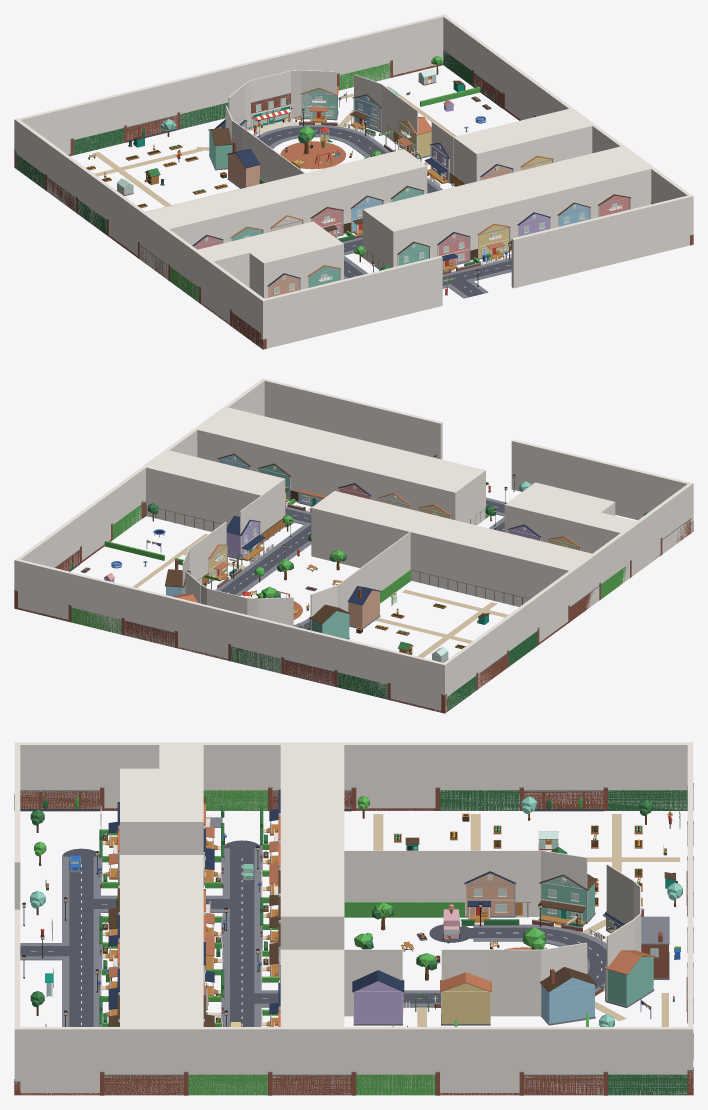
The model's file is CatCafe_Neighbourhood_SetV32.glb.
The picture shows the model from 3 angles, top to bottom: view 1: azimuth 30°, elevation 25°; view 2: azimuth 150°, elevation 25°; view 3: azimuth 270°, elevation 25°; orthographic projection. The views are drawn at different scales.
Visible parts, largest first — view 1: CatCafe_Neighbourhood_SetV32_053_Walls_Barrier, CatCafe_Neighbourhood_SetV32_349_Blocks_Barrier, CatCafe_Neighbourhood_SetV32, CatCafe_Neighbourhood_SetV32_220_HouseFrontA, CatCafe_Neighbourhood_SetV32_226_HouseFrontC, CatCafe_Neighbourhood_SetV32_214_HouseFrontC, CatCafe_Neighbourhood_SetV32_229_CornerShop, CatCafe_Neighbourhood_SetV32_064_HouseFrontC, CatCafe_Neighbourhood_SetV32_067_HouseFrontA, CatCafe_Neighbourhood_SetV32_223_HouseFrontA, CatCafe_Neighbourhood_SetV32_236_HouseFrontB, CatCafe_Neighbourhood_SetV32_012_WallHedge (+12 smaller); view 2: CatCafe_Neighbourhood_SetV32_349_Blocks_Barrier, CatCafe_Neighbourhood_SetV32_053_Walls_Barrier, CatCafe_Neighbourhood_SetV32, CatCafe_Neighbourhood_SetV32_211_HouseFrontB, CatCafe_Neighbourhood_SetV32_220_HouseFrontA, CatCafe_Neighbourhood_SetV32_236_HouseFrontB, CatCafe_Neighbourhood_SetV32_010_WallBrick, CatCafe_Neighbourhood_SetV32_004_WallBrick, CatCafe_Neighbourhood_SetV32_008_WallHedge, CatCafe_Neighbourhood_SetV32_012_WallHedge, CatCafe_Neighbourhood_SetV32_002_WallHedge, CatCafe_Neighbourhood_SetV32_214_HouseFrontC (+2 smaller); view 3: CatCafe_Neighbourhood_SetV32_053_Walls_Barrier, CatCafe_Neighbourhood_SetV32_349_Blocks_Barrier, CatCafe_Neighbourhood_SetV32, CatCafe_Neighbourhood_SetV32_223_HouseFrontA, CatCafe_Neighbourhood_SetV32_211_HouseFrontB, CatCafe_Neighbourhood_SetV32_214_HouseFrontC, CatCafe_Neighbourhood_SetV32_226_HouseFrontC, CatCafe_Neighbourhood_SetV32_236_HouseFrontB, CatCafe_Neighbourhood_SetV32_220_HouseFrontA, CatCafe_Neighbourhood_SetV32_348_Trees, CatCafe_Neighbourhood_SetV32_038_WallBrick, CatCafe_Neighbourhood_SetV32_040_WallHedge (+11 smaller).
Part boxes in pixels (x1=…): CatCafe_Neighbourhood_SetV32_053_Walls_Barrier: x1=14, y1=14, x2=693, y2=348; CatCafe_Neighbourhood_SetV32_349_Blocks_Barrier: x1=146, y1=70, x2=651, y2=298; CatCafe_Neighbourhood_SetV32: x1=93, y1=86, x2=511, y2=298; CatCafe_Neighbourhood_SetV32_220_HouseFrontA: x1=226, y1=141, x2=260, y2=188; CatCafe_Neighbourhood_SetV32_226_HouseFrontC: x1=300, y1=86, x2=339, y2=123; CatCafe_Neighbourhood_SetV32_214_HouseFrontC: x1=397, y1=117, x2=431, y2=159; CatCafe_Neighbourhood_SetV32_229_CornerShop: x1=250, y1=93, x2=292, y2=129; CatCafe_Neighbourhood_SetV32_064_HouseFrontC: x1=477, y1=223, x2=510, y2=260; CatCafe_Neighbourhood_SetV32_067_HouseFrontA: x1=437, y1=232, x2=470, y2=270; CatCafe_Neighbourhood_SetV32_223_HouseFrontA: x1=350, y1=94, x2=381, y2=132; CatCafe_Neighbourhood_SetV32_236_HouseFrontB: x1=208, y1=127, x2=232, y2=170; CatCafe_Neighbourhood_SetV32_012_WallHedge: x1=73, y1=128, x2=123, y2=155; CatCafe_Neighbourhood_SetV32_349_Blocks_Barrier: x1=146, y1=407, x2=636, y2=625; CatCafe_Neighbourhood_SetV32_053_Walls_Barrier: x1=14, y1=378, x2=693, y2=712; CatCafe_Neighbourhood_SetV32: x1=133, y1=484, x2=508, y2=657; CatCafe_Neighbourhood_SetV32_211_HouseFrontB: x1=226, y1=516, x2=265, y2=560; CatCafe_Neighbourhood_SetV32_220_HouseFrontA: x1=347, y1=586, x2=381, y2=628; CatCafe_Neighbourhood_SetV32_236_HouseFrontB: x1=306, y1=604, x2=350, y2=639; CatCafe_Neighbourhood_SetV32_010_WallBrick: x1=284, y1=659, x2=334, y2=686; CatCafe_Neighbourhood_SetV32_004_WallBrick: x1=124, y1=620, x2=174, y2=647; CatCafe_Neighbourhood_SetV32_008_WallHedge: x1=231, y1=646, x2=281, y2=673; CatCafe_Neighbourhood_SetV32_012_WallHedge: x1=337, y1=672, x2=387, y2=699; CatCafe_Neighbourhood_SetV32_002_WallHedge: x1=71, y1=607, x2=121, y2=634; CatCafe_Neighbourhood_SetV32_214_HouseFrontC: x1=208, y1=544, x2=228, y2=583; CatCafe_Neighbourhood_SetV32_053_Walls_Barrier: x1=14, y1=742, x2=693, y2=1095; CatCafe_Neighbourhood_SetV32_349_Blocks_Barrier: x1=120, y1=745, x2=641, y2=1026; CatCafe_Neighbourhood_SetV32: x1=20, y1=814, x2=679, y2=1026; CatCafe_Neighbourhood_SetV32_223_HouseFrontA: x1=540, y1=967, x2=596, y2=1025; CatCafe_Neighbourhood_SetV32_211_HouseFrontB: x1=352, y1=970, x2=404, y2=1025; CatCafe_Neighbourhood_SetV32_214_HouseFrontC: x1=440, y1=972, x2=491, y2=1025; CatCafe_Neighbourhood_SetV32_226_HouseFrontC: x1=604, y1=950, x2=655, y2=1007; CatCafe_Neighbourhood_SetV32_236_HouseFrontB: x1=538, y1=874, x2=596, y2=926; CatCafe_Neighbourhood_SetV32_220_HouseFrontA: x1=464, y1=871, x2=516, y2=923; CatCafe_Neighbourhood_SetV32_348_Trees: x1=30, y1=796, x2=682, y2=1026; CatCafe_Neighbourhood_SetV32_038_WallBrick: x1=272, y1=1074, x2=351, y2=1095; CatCafe_Neighbourhood_SetV32_040_WallHedge: x1=188, y1=1074, x2=267, y2=1095.
Size of the model in its own units: 280 by 30.05 by 280.
1 material, 1 textured.
